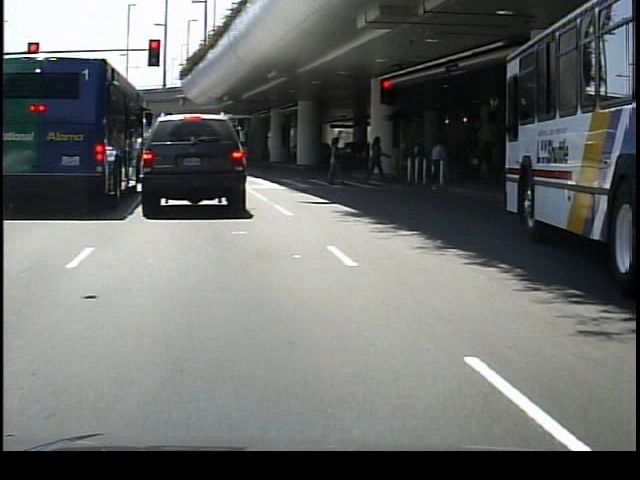person: (364, 131, 390, 187), (323, 132, 349, 187), (426, 136, 449, 192)
